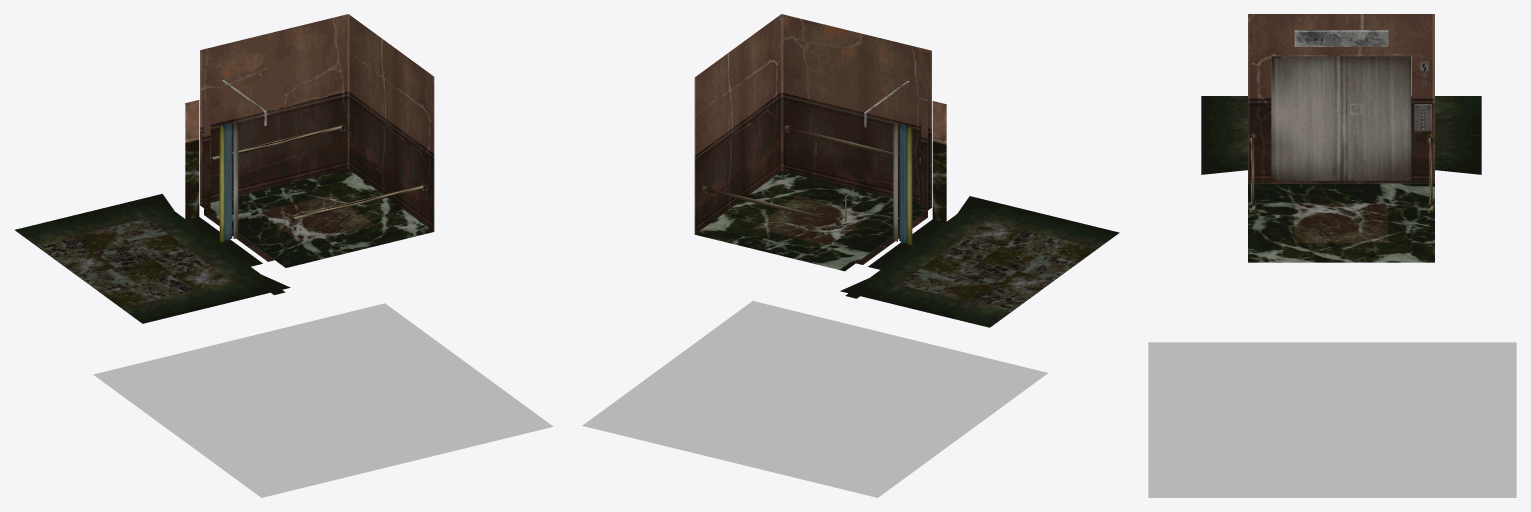
3 views of the same model, side by side, from view 1: azimuth 30°, elevation 25°; view 2: azimuth 150°, elevation 25°; view 3: azimuth 270°, elevation 25° (orthographic). The views are drawn at different scales.
Parts seen in each view (by area): view 1: DR1L_HID_m0, NL1_m1, NL_BACK2_m0, NL1_m0, DR2R_HID_m0, NL_NEAR_m0, DR3R_HID_m0, DR1R_HID_m0, NL_NEAR_m1; view 2: DR1L_HID_m0, NL1_m0, NL_BACK2_m0, NL1_m1, DR2L_HID_m0, NL_NEAR_m0, DR3L_HID_m0, NL_NEAR_m1; view 3: DR1L_HID_m0, NL1_m1, DR1R_HID_m0, NL_BACK2_m0, NL_NEAR_m0, BT4_HIDE_m0.
Boxes of the visible parts, x1,y1,x2,y2 form: DR1L_HID_m0: (93, 303, 553, 497); NL1_m1: (200, 14, 433, 267); NL_BACK2_m0: (15, 100, 290, 323); NL1_m0: (348, 14, 434, 231); DR2R_HID_m0: (223, 122, 232, 240); NL_NEAR_m0: (211, 80, 345, 162); DR3R_HID_m0: (219, 125, 224, 242); DR1R_HID_m0: (233, 122, 238, 238); NL_NEAR_m1: (288, 183, 427, 223); DR1L_HID_m0: (582, 123, 1047, 497); NL1_m0: (694, 14, 931, 234); NL_BACK2_m0: (840, 101, 1119, 327); NL1_m1: (695, 98, 931, 271); DR2L_HID_m0: (899, 123, 908, 242); NL_NEAR_m0: (701, 81, 909, 225); DR3L_HID_m0: (907, 126, 912, 244); NL_NEAR_m1: (784, 124, 920, 165); DR1L_HID_m0: (1148, 56, 1516, 497); NL1_m1: (1248, 14, 1434, 262); DR1R_HID_m0: (1341, 56, 1411, 180); NL_BACK2_m0: (1201, 96, 1481, 179); NL_NEAR_m0: (1294, 30, 1434, 213); BT4_HIDE_m0: (1414, 104, 1431, 131).
Size of the model in its own units: 8.34 by 6.9 by 6.3.
15 materials, 14 textured.
